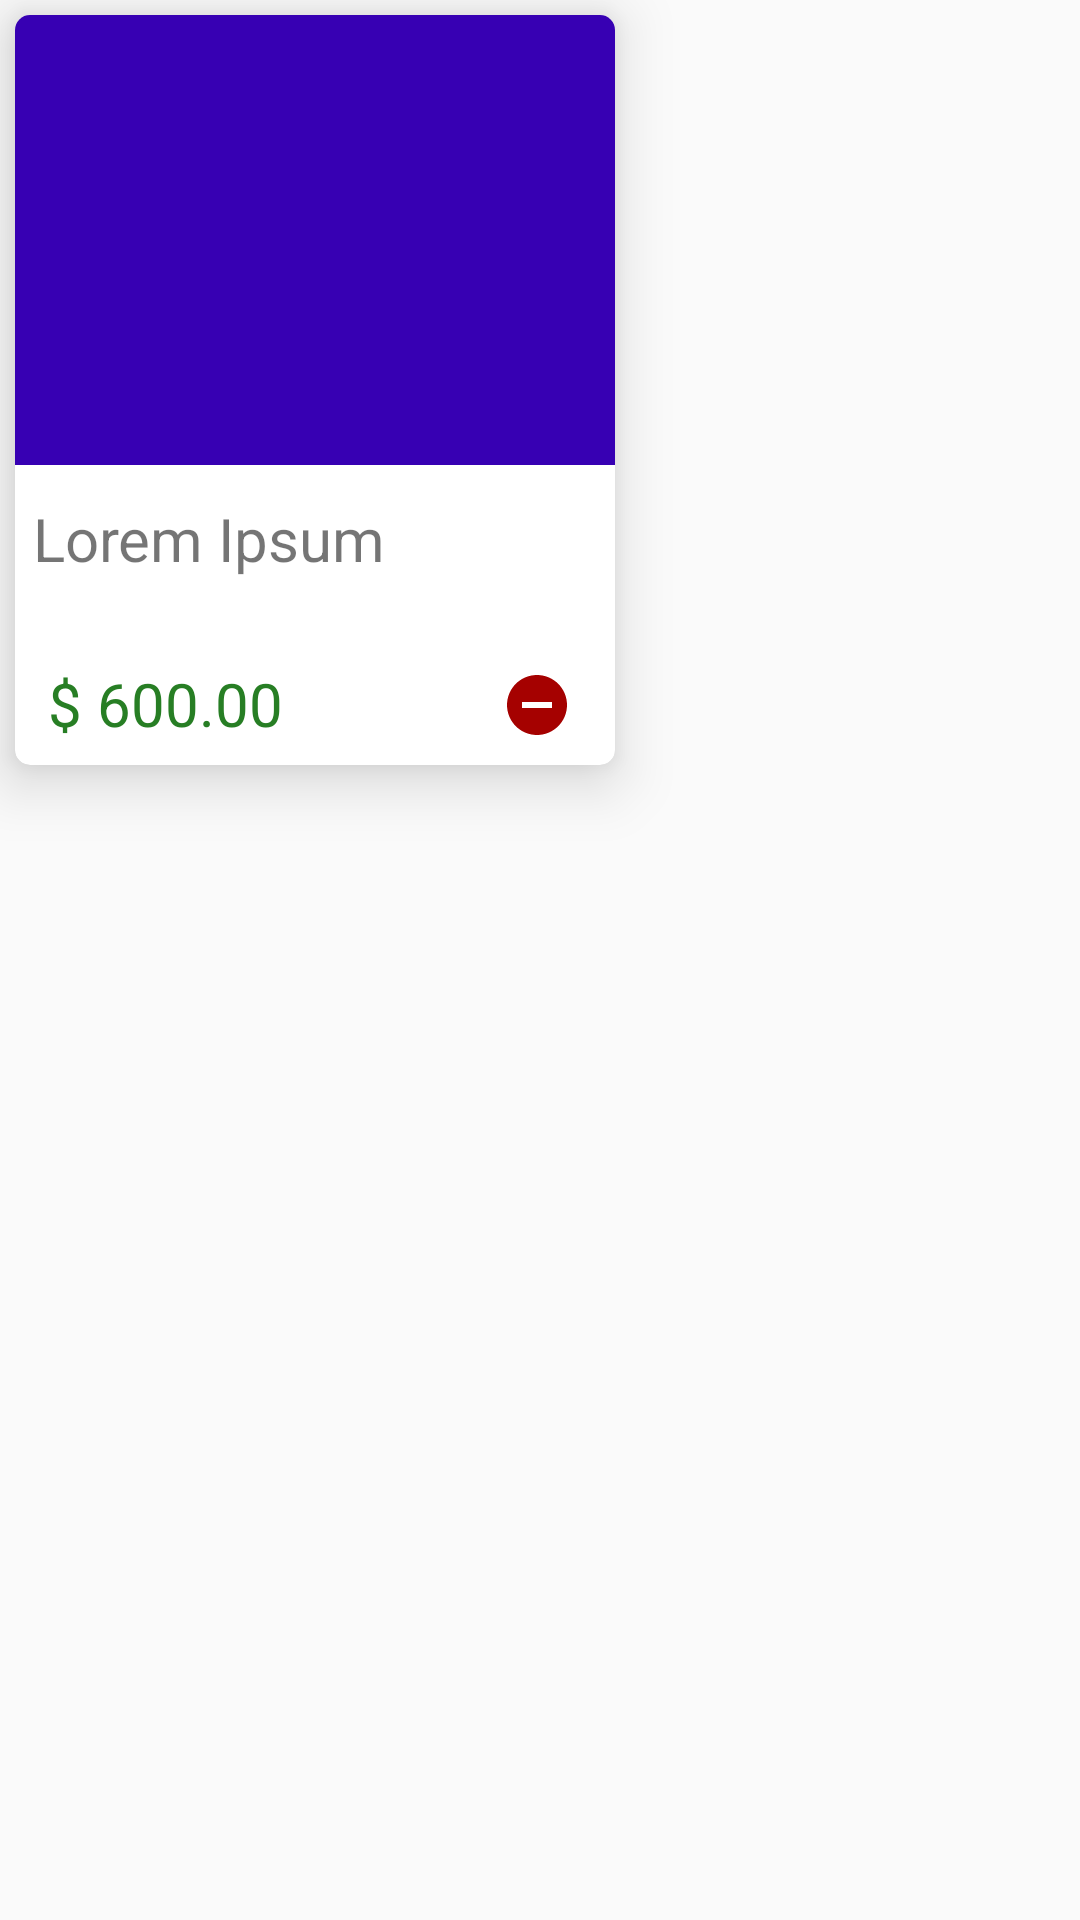

Icon click points for this 1080w x 1920h phone screenshot, format [x,y]:
remove circle: [537,705]
